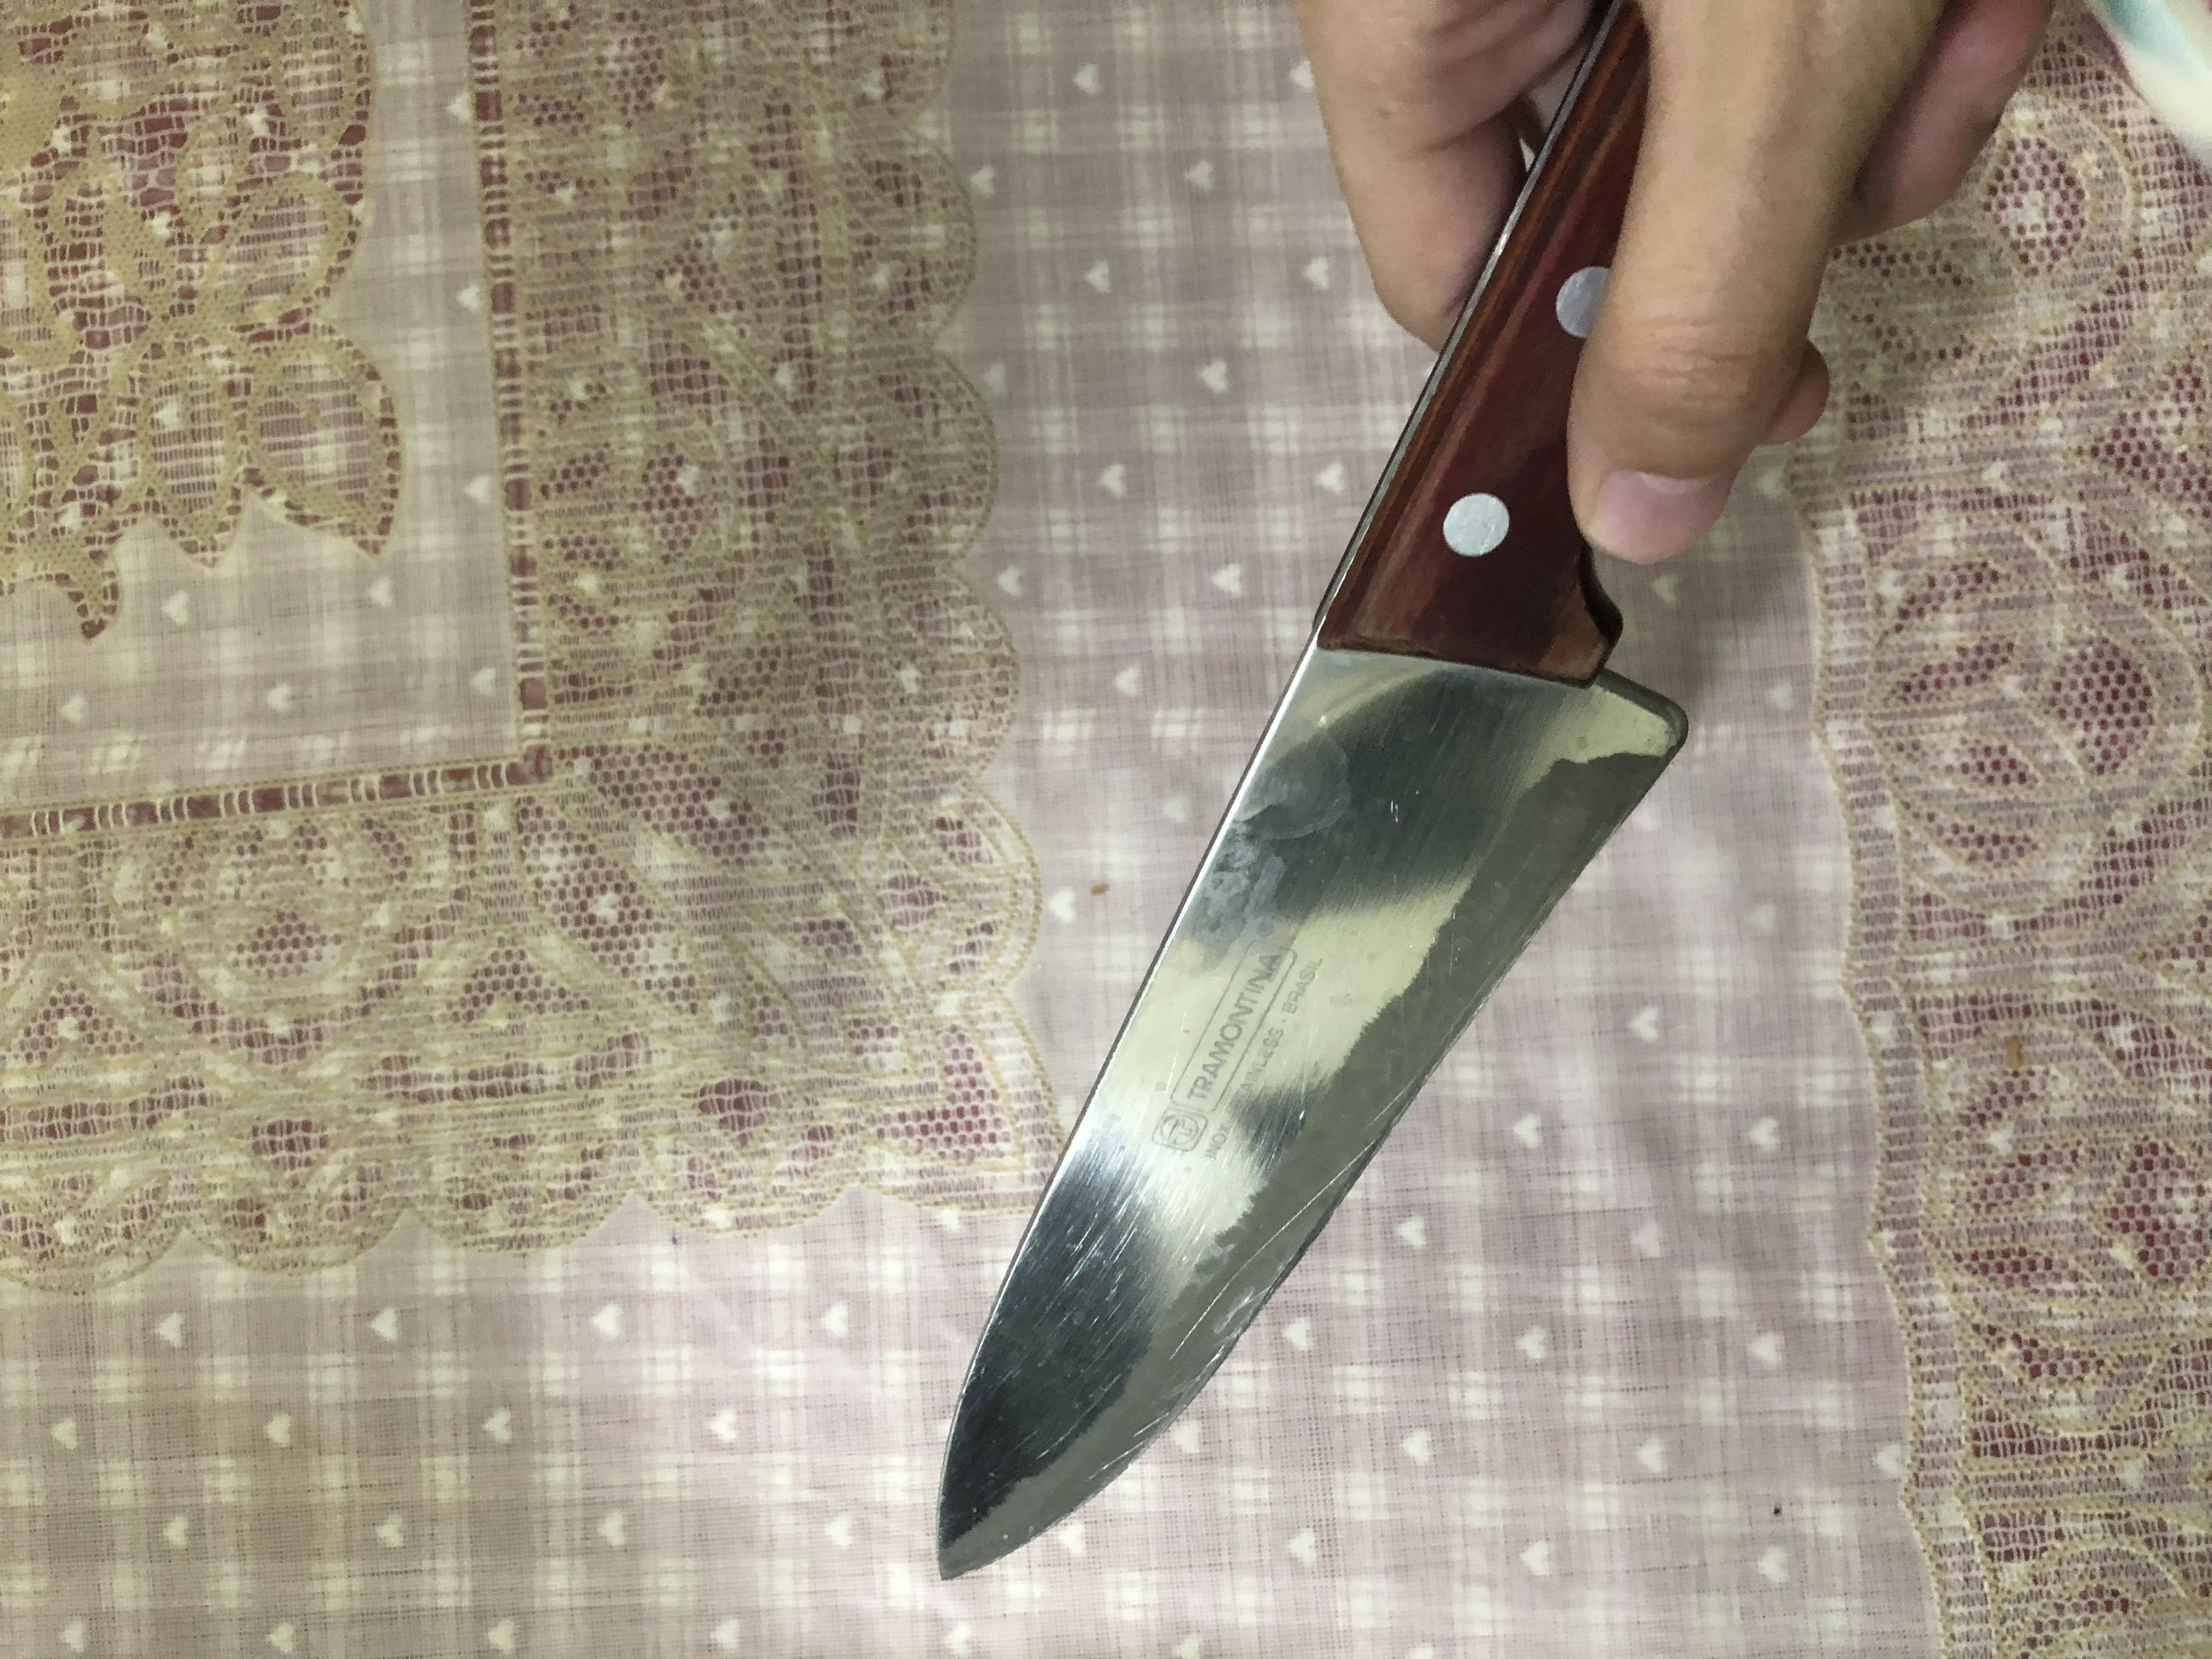weapon: (96, 697, 2212, 1269)
